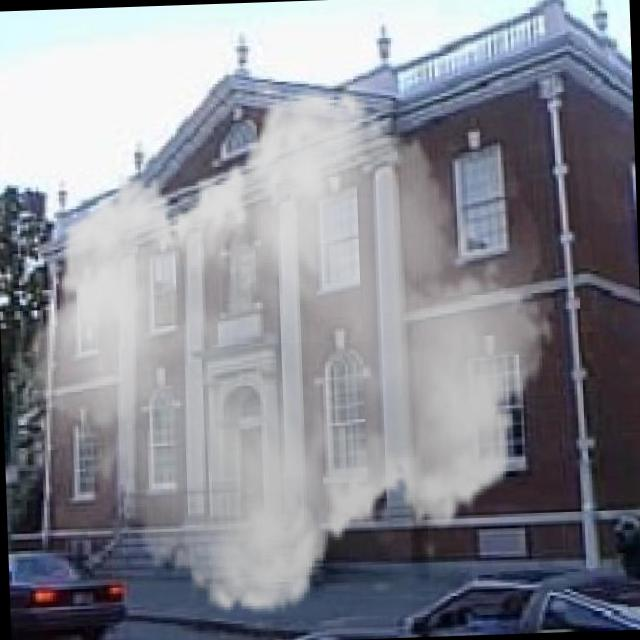Smoke: (8, 61, 565, 640)
